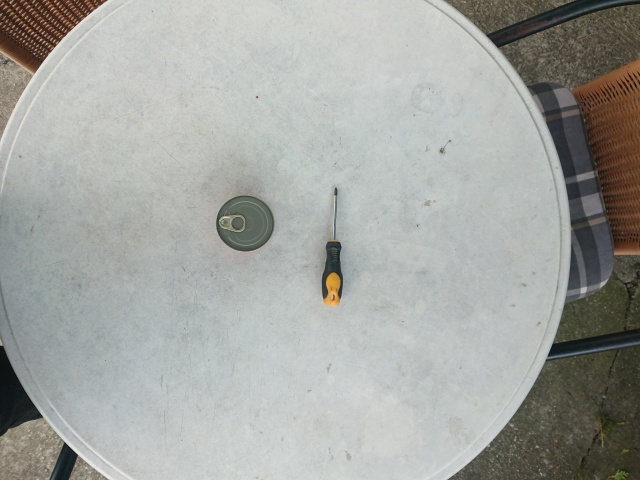Gavrilovic Pork Liver Pate 100g: (214, 193, 276, 253)
